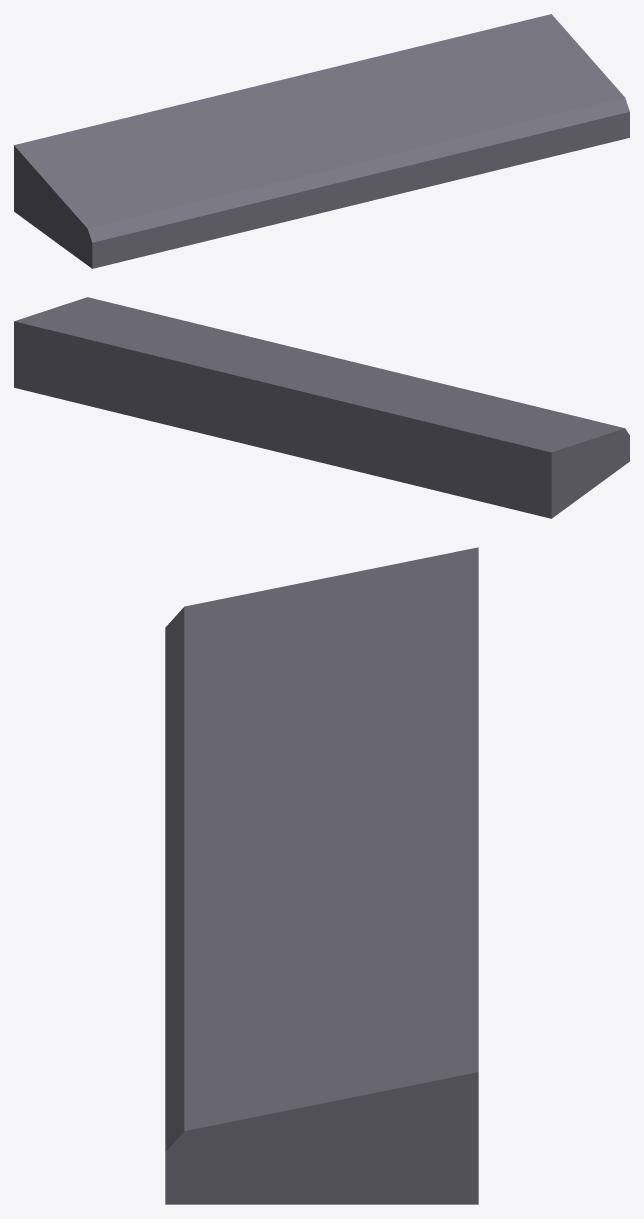
The model's file is SM_Fixture_Canopy06909_01.gltf.
The picture shows the model from 3 angles, top to bottom: view 1: azimuth 30°, elevation 25°; view 2: azimuth 150°, elevation 25°; view 3: azimuth 270°, elevation 25°; orthographic projection. The views are drawn at different scales.
Visible parts, largest first — view 1: SM_Fixture_Canopy06909_01; view 2: SM_Fixture_Canopy06909_01; view 3: SM_Fixture_Canopy06909_01.
Boxes of the visible parts, left/top/right/bottom form: SM_Fixture_Canopy06909_01: left=14, top=14, right=629, bottom=268; SM_Fixture_Canopy06909_01: left=14, top=297, right=629, bottom=518; SM_Fixture_Canopy06909_01: left=165, top=547, right=478, bottom=1204.
Size of the model in its own units: 0.97 by 0.1144 by 0.245.
1 material, 1 textured.
